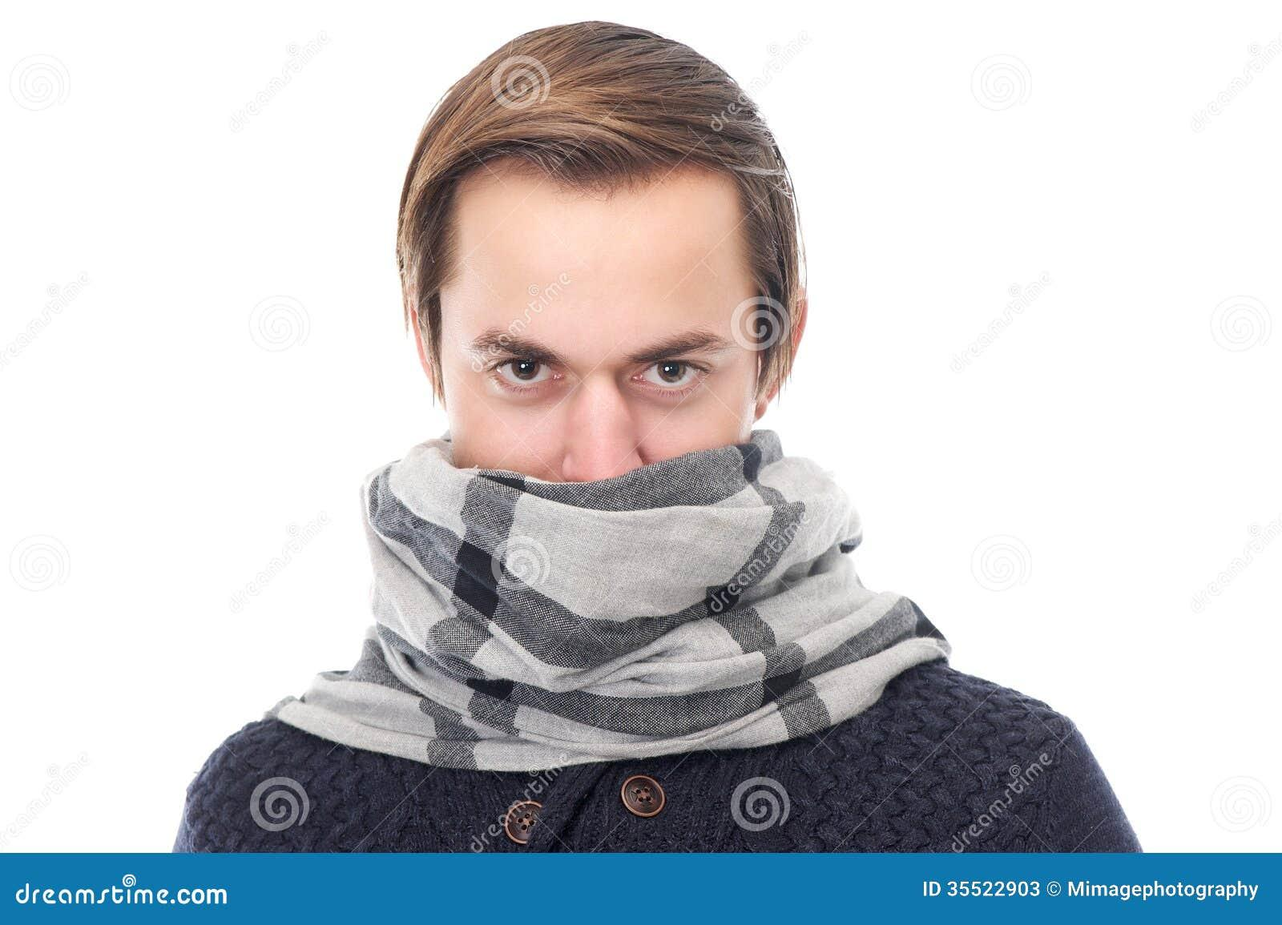scarf-kerchief: (342, 408, 948, 750)
